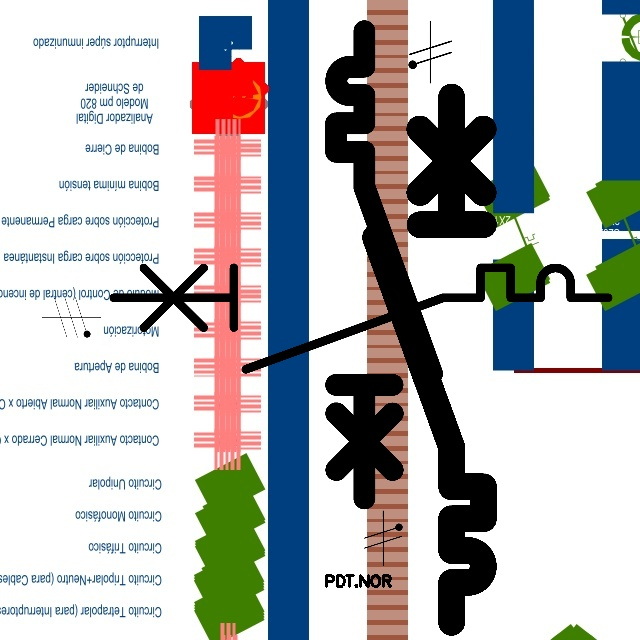interruptor_termomagnetico: (362, 83, 497, 636), (100, 255, 620, 382), (324, 19, 444, 510)
